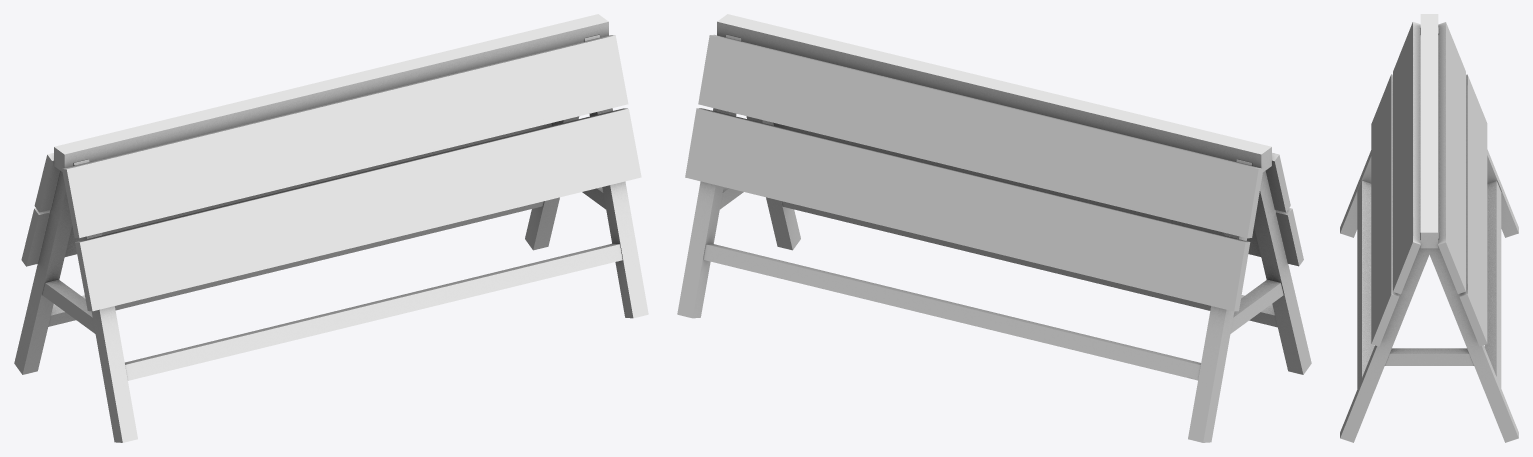
Rendered from roadblocker2.fbx.
The picture shows the model from 3 angles, left to right: view 1: azimuth 30°, elevation 25°; view 2: azimuth 150°, elevation 25°; view 3: azimuth 270°, elevation 25°; orthographic projection. The views are drawn at different scales.
Parts seen in each view (by area): view 1: road_blocker_2; view 2: road_blocker_2; view 3: road_blocker_2.
Boxes of the visible parts, x1=… form: road_blocker_2: x1=14, y1=14, x2=648, y2=442; road_blocker_2: x1=677, y1=14, x2=1311, y2=442; road_blocker_2: x1=1340, y1=14, x2=1518, y2=442.
Bounding box in the file's own units: 4.31 × 1.95 × 1.47.
1 material, 1 textured.
